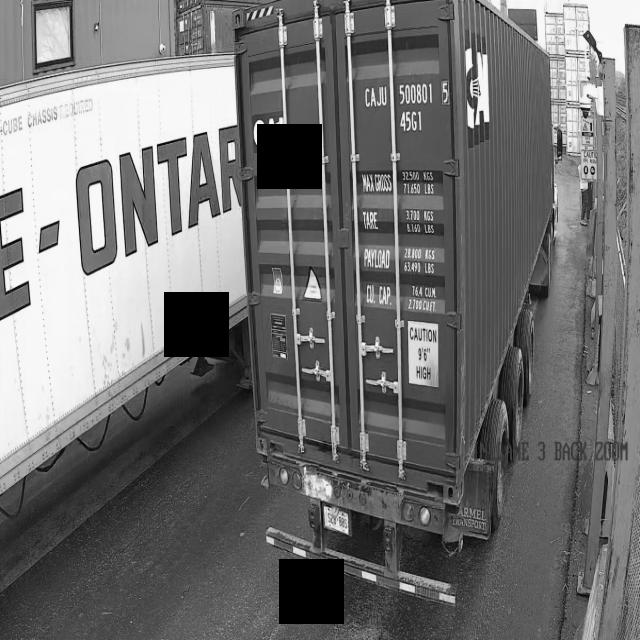container_company_logo: (250, 110, 288, 155)
container_number: (359, 82, 456, 134)
driver: (579, 165, 590, 225)
license_plate: (323, 501, 352, 541)
other_container_info: (357, 165, 450, 326)
truck_with_container: (235, 0, 556, 604), (0, 56, 247, 492)
